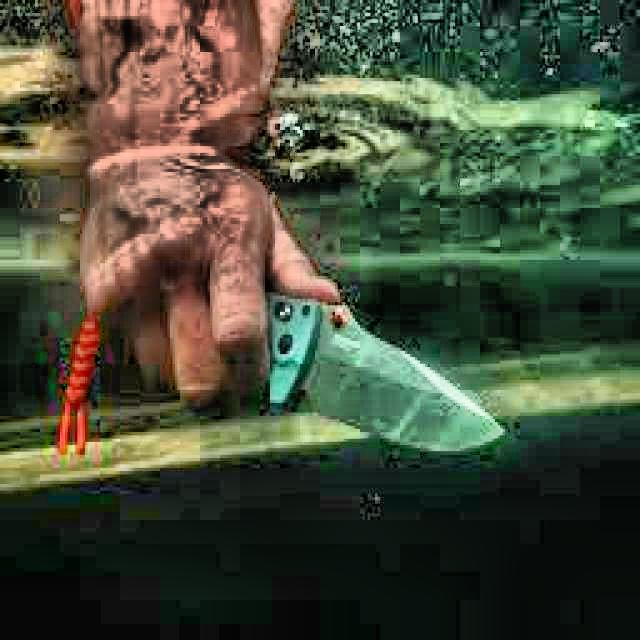knife: (230, 282, 510, 464)
